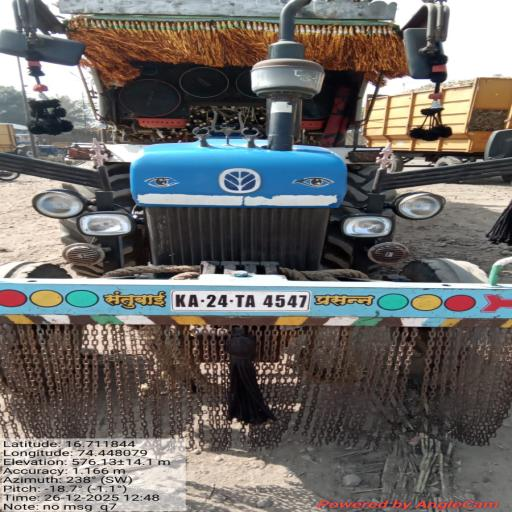number_plate: (172, 291, 310, 311)
